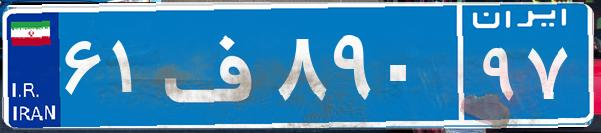0: (385, 28, 445, 110)
1: (110, 28, 158, 105)
6: (57, 26, 110, 107)
7: (525, 38, 570, 115)
8: (273, 28, 330, 110)
9: (330, 28, 385, 110), (475, 38, 525, 113)
ف: (158, 15, 273, 115)
